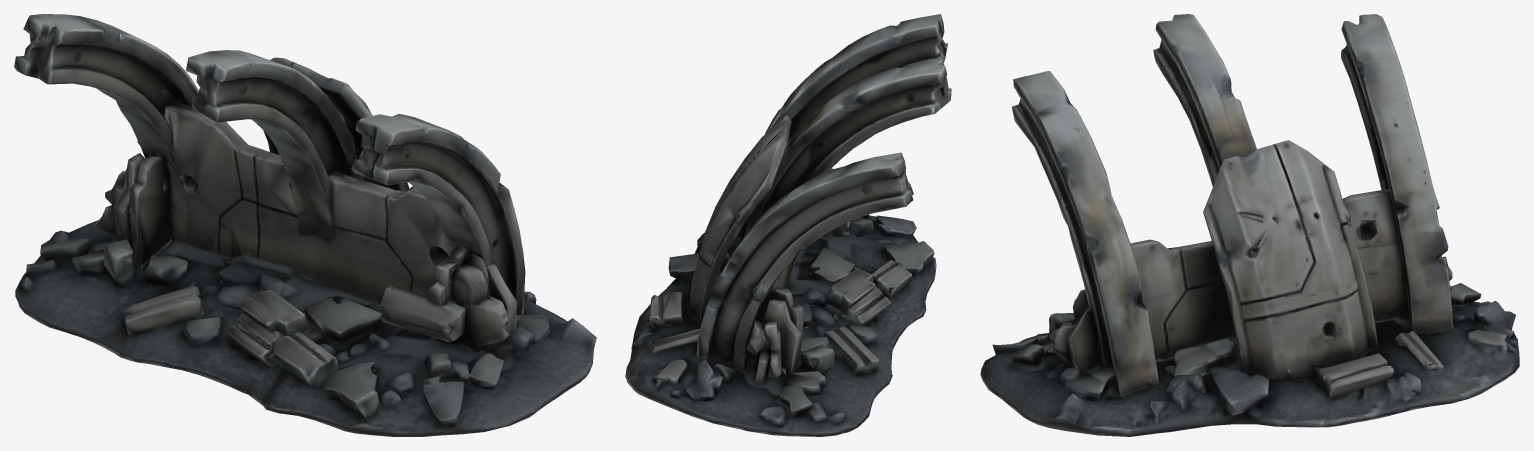
The picture shows the model from 3 angles, left to right: view 1: azimuth 30°, elevation 25°; view 2: azimuth 150°, elevation 25°; view 3: azimuth 270°, elevation 25°; orthographic projection. The views are drawn at different scales.
Parts seen in each view (by area): view 1: repaired; view 2: repaired; view 3: repaired.
Part boxes in pixels (x1,y1,x2,y2): repaired: [14, 14, 596, 436]; repaired: [625, 14, 951, 436]; repaired: [980, 14, 1519, 436].
Size of the model in its own units: 0.7497 by 0.6159 by 0.9991.
1 material, 1 textured.
